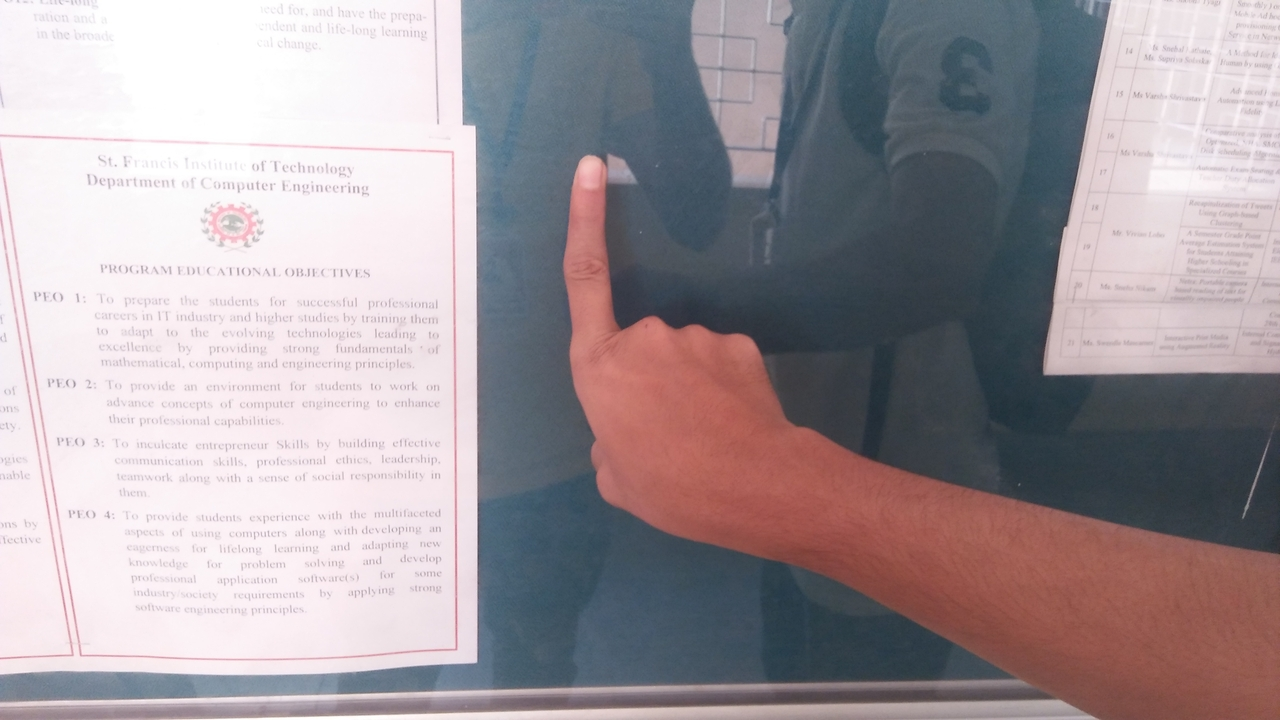fingertip: (560, 144, 616, 194)
